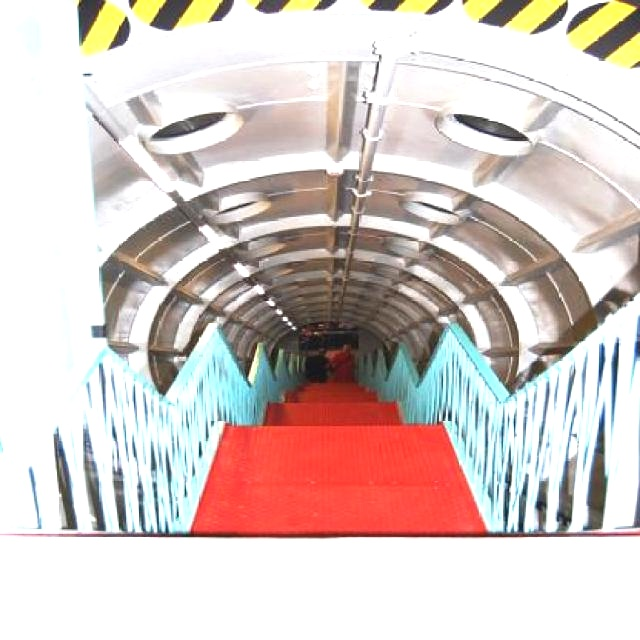stair: (177, 363, 465, 532)
